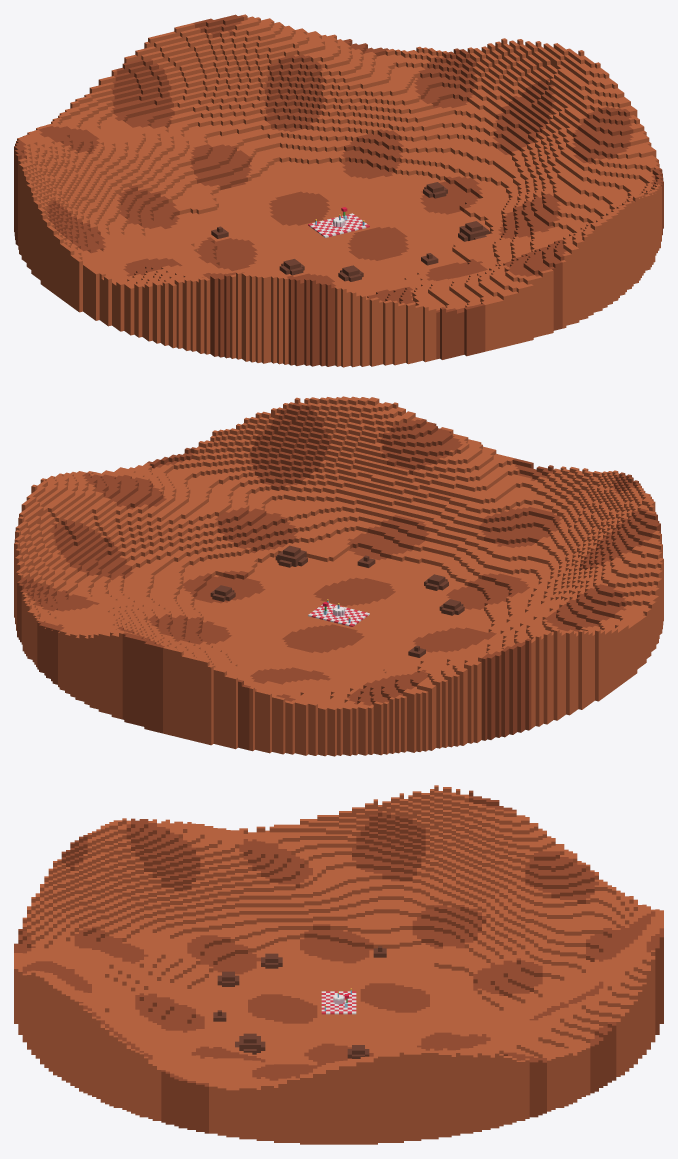
File: cita_marte.obj
3 renders of one model, top to bottom at view 1: azimuth 30°, elevation 25°; view 2: azimuth 150°, elevation 25°; view 3: azimuth 270°, elevation 25°, orthographic.
Parts seen in each view (by area): view 1: suelo, suelo_oscuro, piedras; view 2: suelo, suelo_oscuro, piedras; view 3: suelo, suelo_oscuro, piedras.
Boxes of the visible parts, <box> form: suelo: <box>16,14,661,367</box>; suelo_oscuro: <box>14,14,663,366</box>; piedras: <box>211,182,490,281</box>; suelo: <box>14,396,663,756</box>; suelo_oscuro: <box>17,403,660,750</box>; piedras: <box>210,545,464,657</box>; suelo: <box>14,785,663,1144</box>; suelo_oscuro: <box>14,790,663,1133</box>; piedras: <box>213,946,386,1058</box>.
Size of the model in its own units: 18 by 2.76 by 18.
